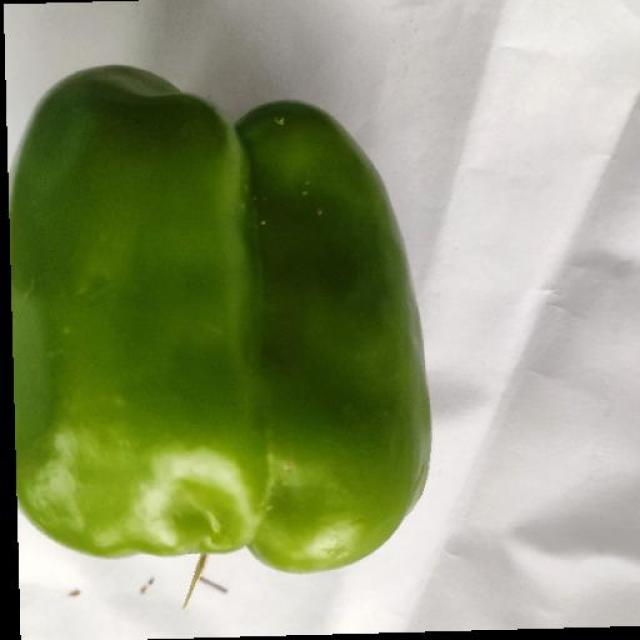Fresh_Capsicum: (18, 72, 453, 562)
